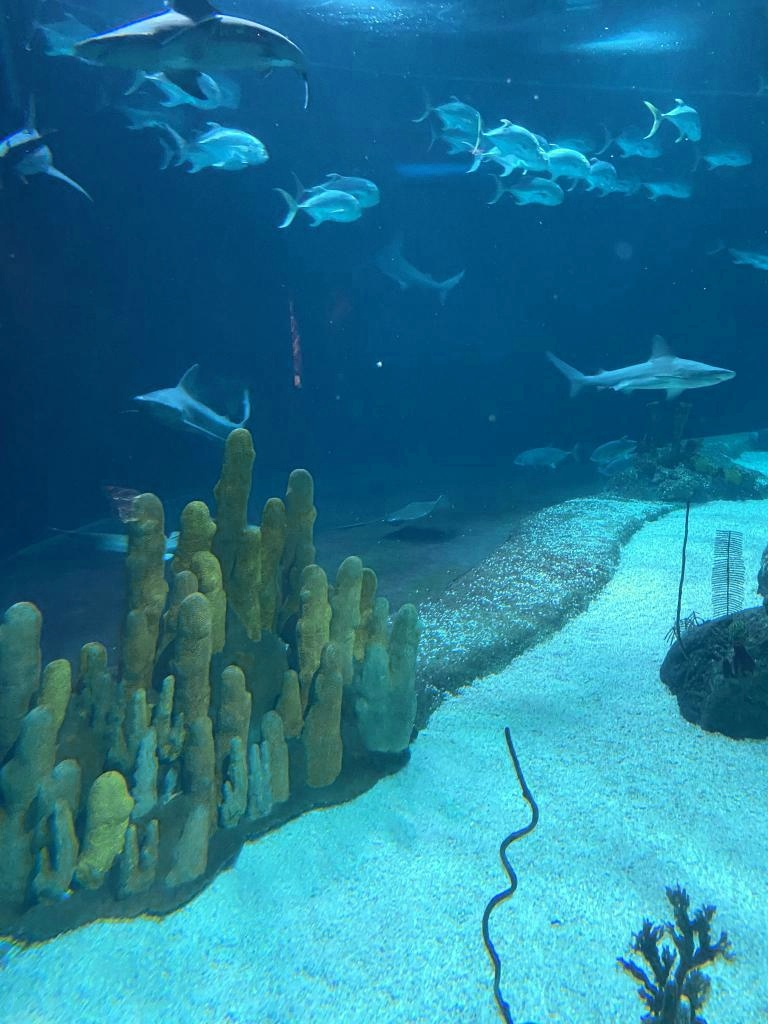fish: (124, 60, 220, 112), (163, 128, 269, 166), (410, 84, 484, 134), (271, 186, 361, 226), (290, 170, 378, 208), (459, 141, 551, 177), (155, 137, 247, 173), (486, 173, 564, 209), (522, 143, 590, 183), (642, 98, 702, 142), (621, 166, 691, 202), (705, 232, 767, 272), (472, 128, 540, 162), (514, 440, 580, 472), (594, 126, 660, 158), (687, 140, 751, 172), (425, 123, 487, 155), (567, 156, 617, 192), (589, 436, 645, 460)
shark: (74, 2, 310, 110), (540, 333, 734, 403), (118, 363, 248, 445), (1, 92, 92, 202), (368, 230, 463, 306)
stingray: (381, 492, 453, 526)
